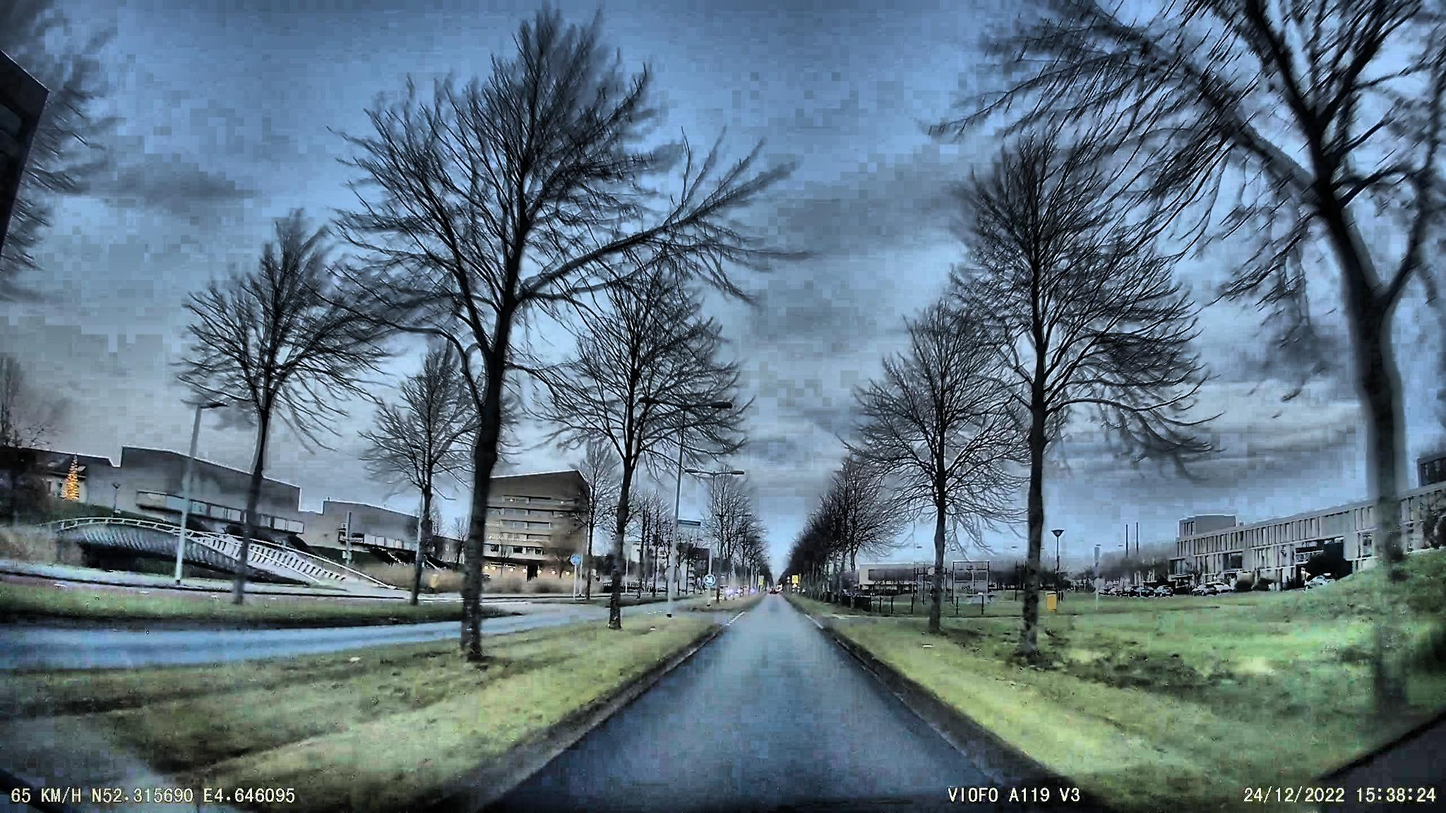Roads: (496, 603, 1060, 813)
